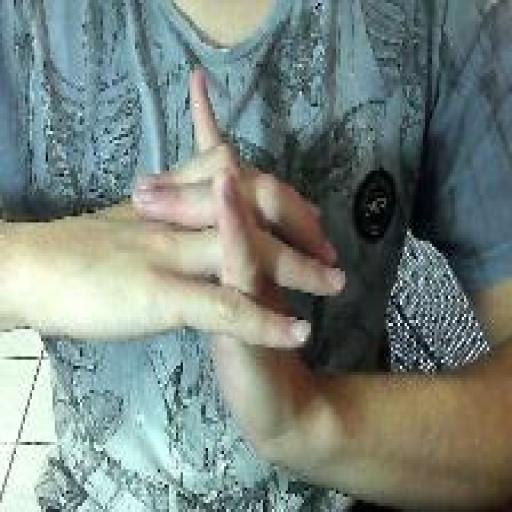Ushi -ox-: (128, 64, 350, 475)
